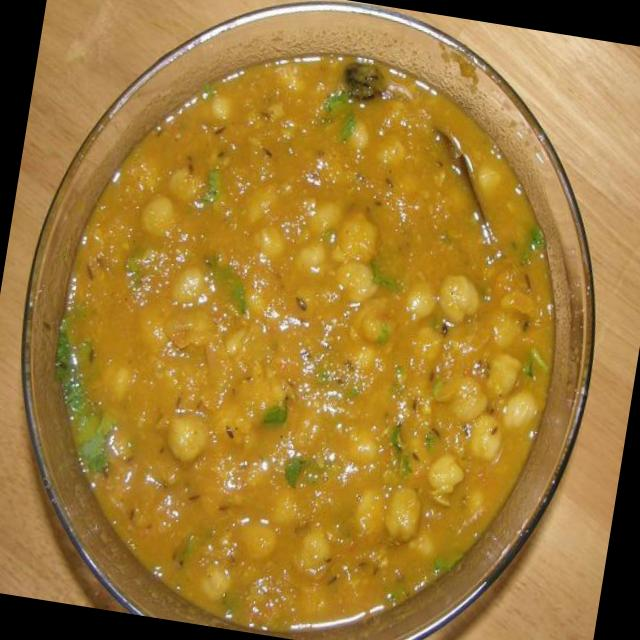Chole: (21, 16, 596, 640)
